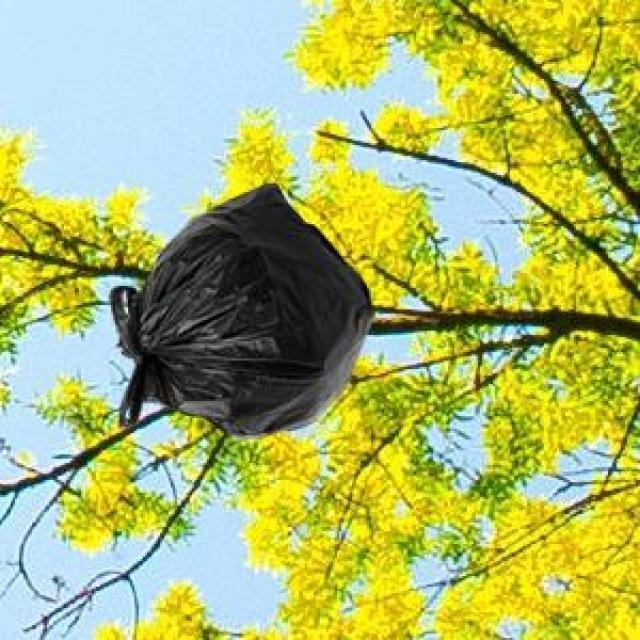miscellaneous trash: (105, 179, 371, 433)
